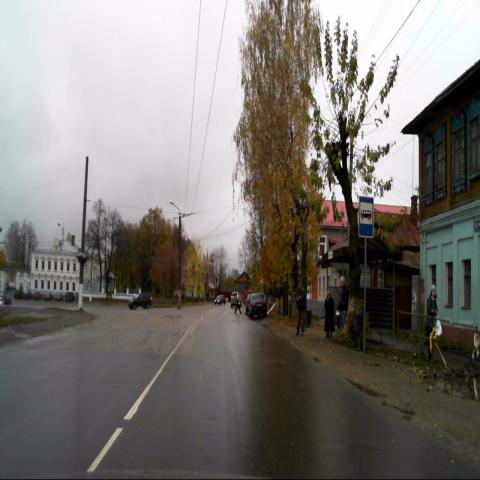5_16: (359, 196, 373, 237)
